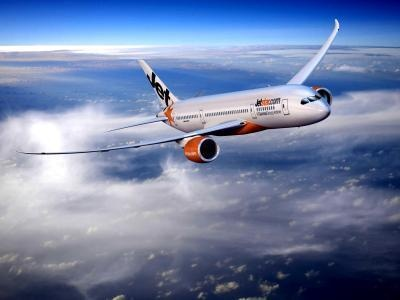airplane: (14, 18, 364, 164)
